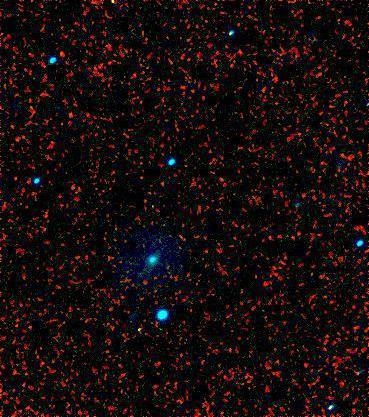star: (119, 315, 149, 345)
